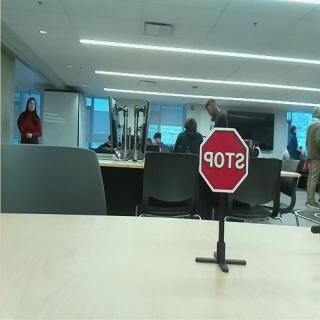sign_stop: (200, 127, 251, 193)
